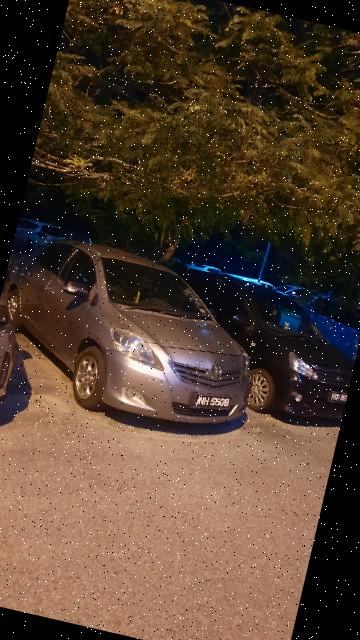License_Plate: (194, 389, 236, 416), (330, 386, 350, 407)
car: (1, 226, 276, 443), (146, 263, 360, 430)
